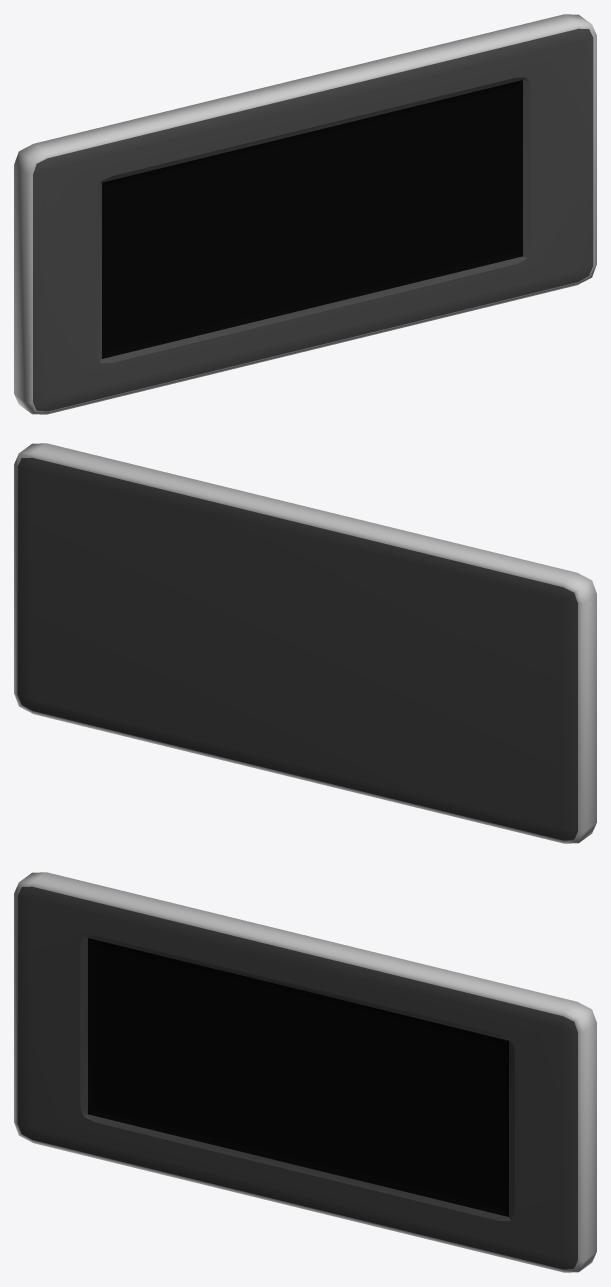
File: Clock.FBX
3 renders of one model, top to bottom at view 1: azimuth 30°, elevation 25°; view 2: azimuth 150°, elevation 25°; view 3: azimuth 330°, elevation 25°, orthographic.
Visible parts, largest first — view 1: DigitalClock; view 2: DigitalClock; view 3: DigitalClock.
Boxes of the visible parts, x1,y1,x2,y2 form: DigitalClock: (14,14,596,414); DigitalClock: (14,443,596,843); DigitalClock: (14,872,596,1272).
Bounding box in the file's own units: 156 × 68.39 × 7.66.
